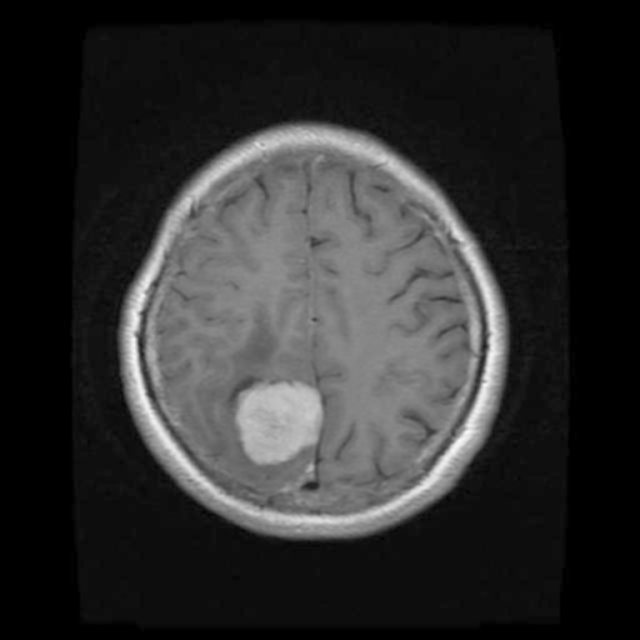meningioma tumor: (228, 370, 340, 472)
